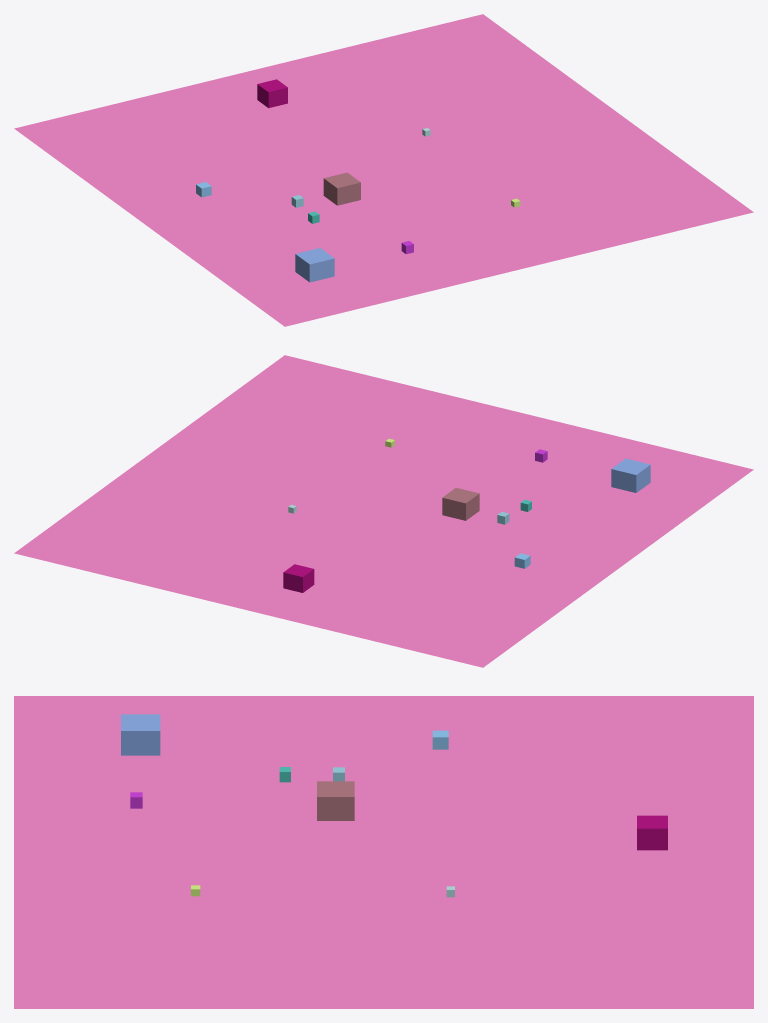
3 renders of one model, top to bottom at view 1: azimuth 30°, elevation 25°; view 2: azimuth 150°, elevation 25°; view 3: azimuth 270°, elevation 25°, orthographic. The views are drawn at different scales.
Parts seen in each view (by area): view 1: Chunk_2_-1; view 2: Chunk_2_-1; view 3: Chunk_2_-1.
Part boxes in pixels (left/top/right/bottom): Chunk_2_-1: left=14, top=14, right=753, bottom=326; Chunk_2_-1: left=14, top=355, right=753, bottom=667; Chunk_2_-1: left=14, top=696, right=753, bottom=1008.
Bounding box in the file's own units: 1500 × 79.89 × 1500.
